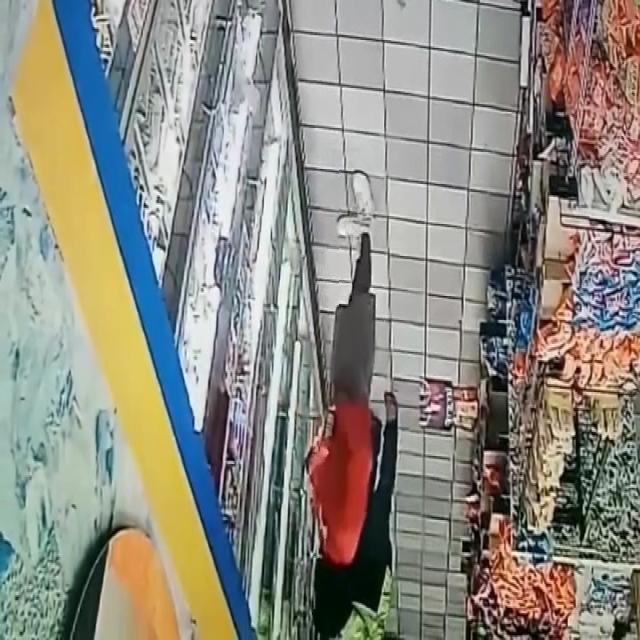Shoplifting: (300, 146, 373, 640)
